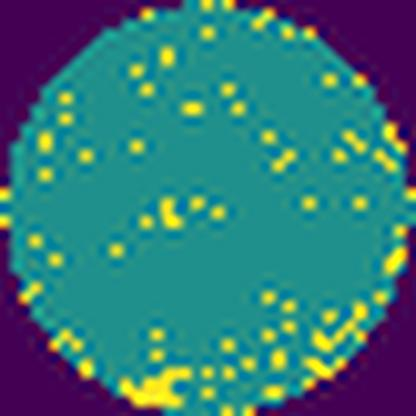Edge-Loc: (117, 362, 196, 414)
